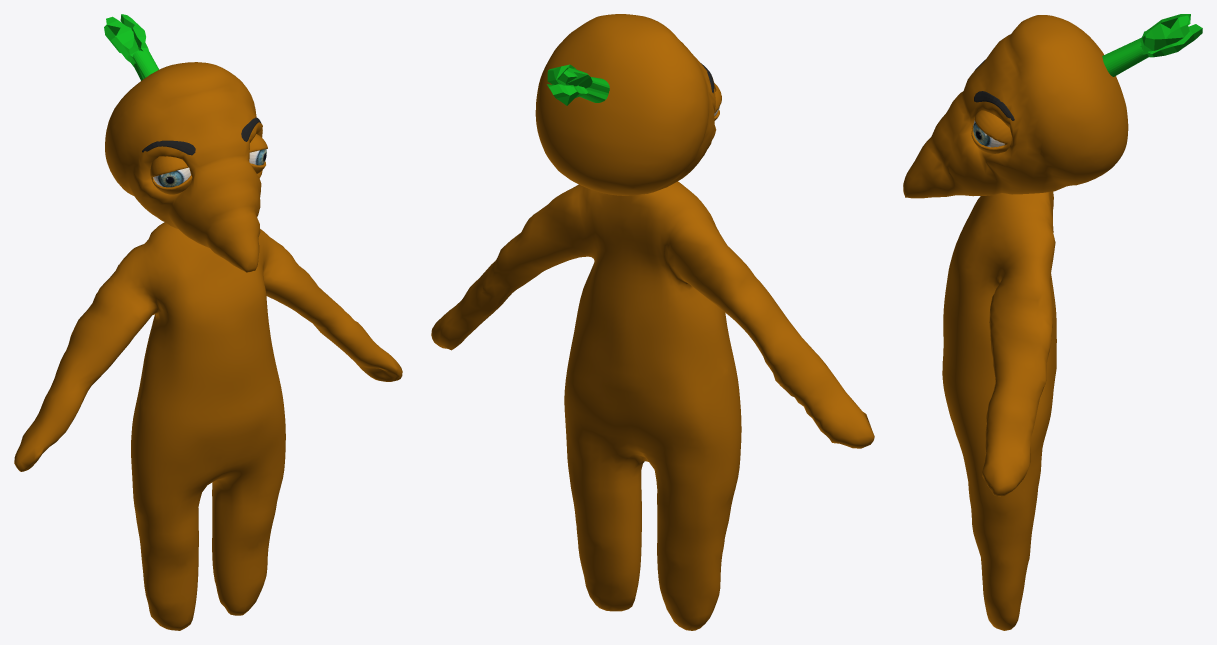
Rendered from Carrot Top.fbx.
3 renders of one model, left to right at view 1: azimuth 30°, elevation 25°; view 2: azimuth 150°, elevation 25°; view 3: azimuth 270°, elevation 25°, orthographic. The views are drawn at different scales.
Parts seen in each view (by area): view 1: Body, CarrotTop, EyeLids, Eyeballs 2, Plane, Plant Hair 2; view 2: Body, CarrotTop; view 3: Body, CarrotTop, Plant Hair, EyeLids, Stalk, Plant Hair 3.
Part boxes in pixels (bbox=[...]): Body: bbox=[14, 222, 402, 630]; CarrotTop: bbox=[105, 62, 262, 272]; EyeLids: bbox=[150, 134, 267, 194]; Eyeballs 2: bbox=[153, 149, 266, 187]; Plane: bbox=[142, 117, 261, 155]; Plant Hair 2: bbox=[106, 16, 139, 60]; Body: bbox=[431, 181, 874, 630]; CarrotTop: bbox=[535, 14, 716, 195]; Body: bbox=[942, 191, 1056, 630]; CarrotTop: bbox=[903, 15, 1128, 198]; Plant Hair: bbox=[1140, 18, 1189, 54]; EyeLids: bbox=[971, 110, 1011, 154]; Stalk: bbox=[1102, 38, 1149, 76]; Plant Hair 3: bbox=[1147, 24, 1202, 57].
Bounding box in the file's own units: 459 × 619 × 284.
Materials: 4 (1 with a texture image).
